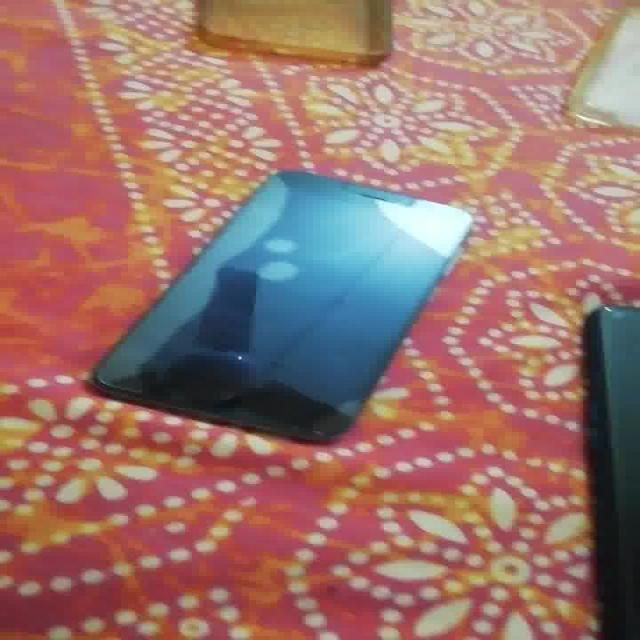phone: (93, 159, 479, 451), (579, 298, 639, 640)
